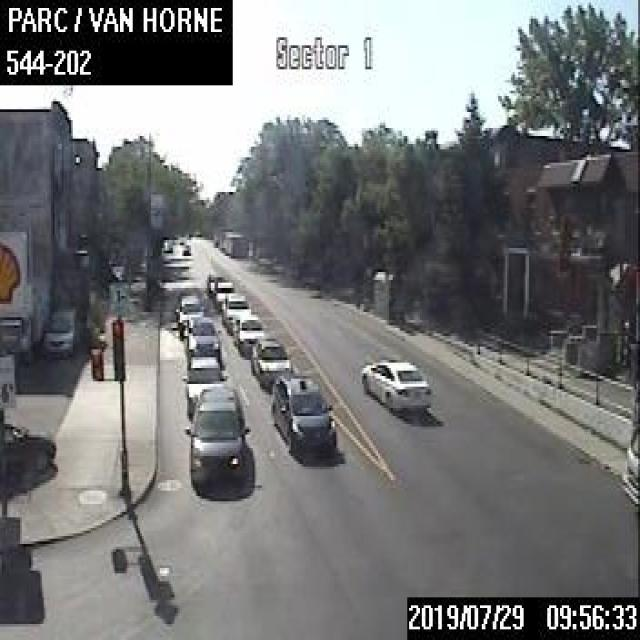vehicle: (183, 385, 249, 490), (270, 372, 335, 452), (358, 352, 433, 413), (0, 274, 49, 362), (3, 420, 55, 472), (181, 354, 227, 411), (250, 336, 292, 382), (42, 305, 77, 355), (620, 427, 638, 509), (185, 316, 221, 356), (232, 313, 266, 348), (220, 290, 250, 326), (174, 292, 204, 322), (214, 279, 232, 305), (206, 270, 224, 293)
